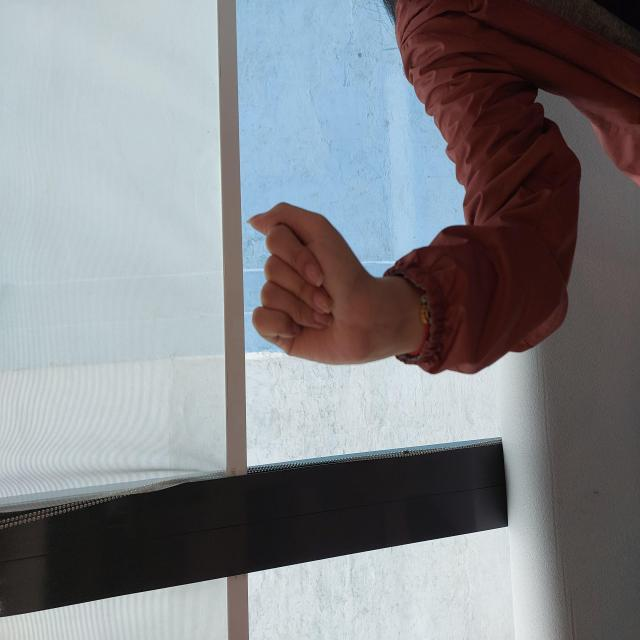A: (273, 245, 439, 374)
